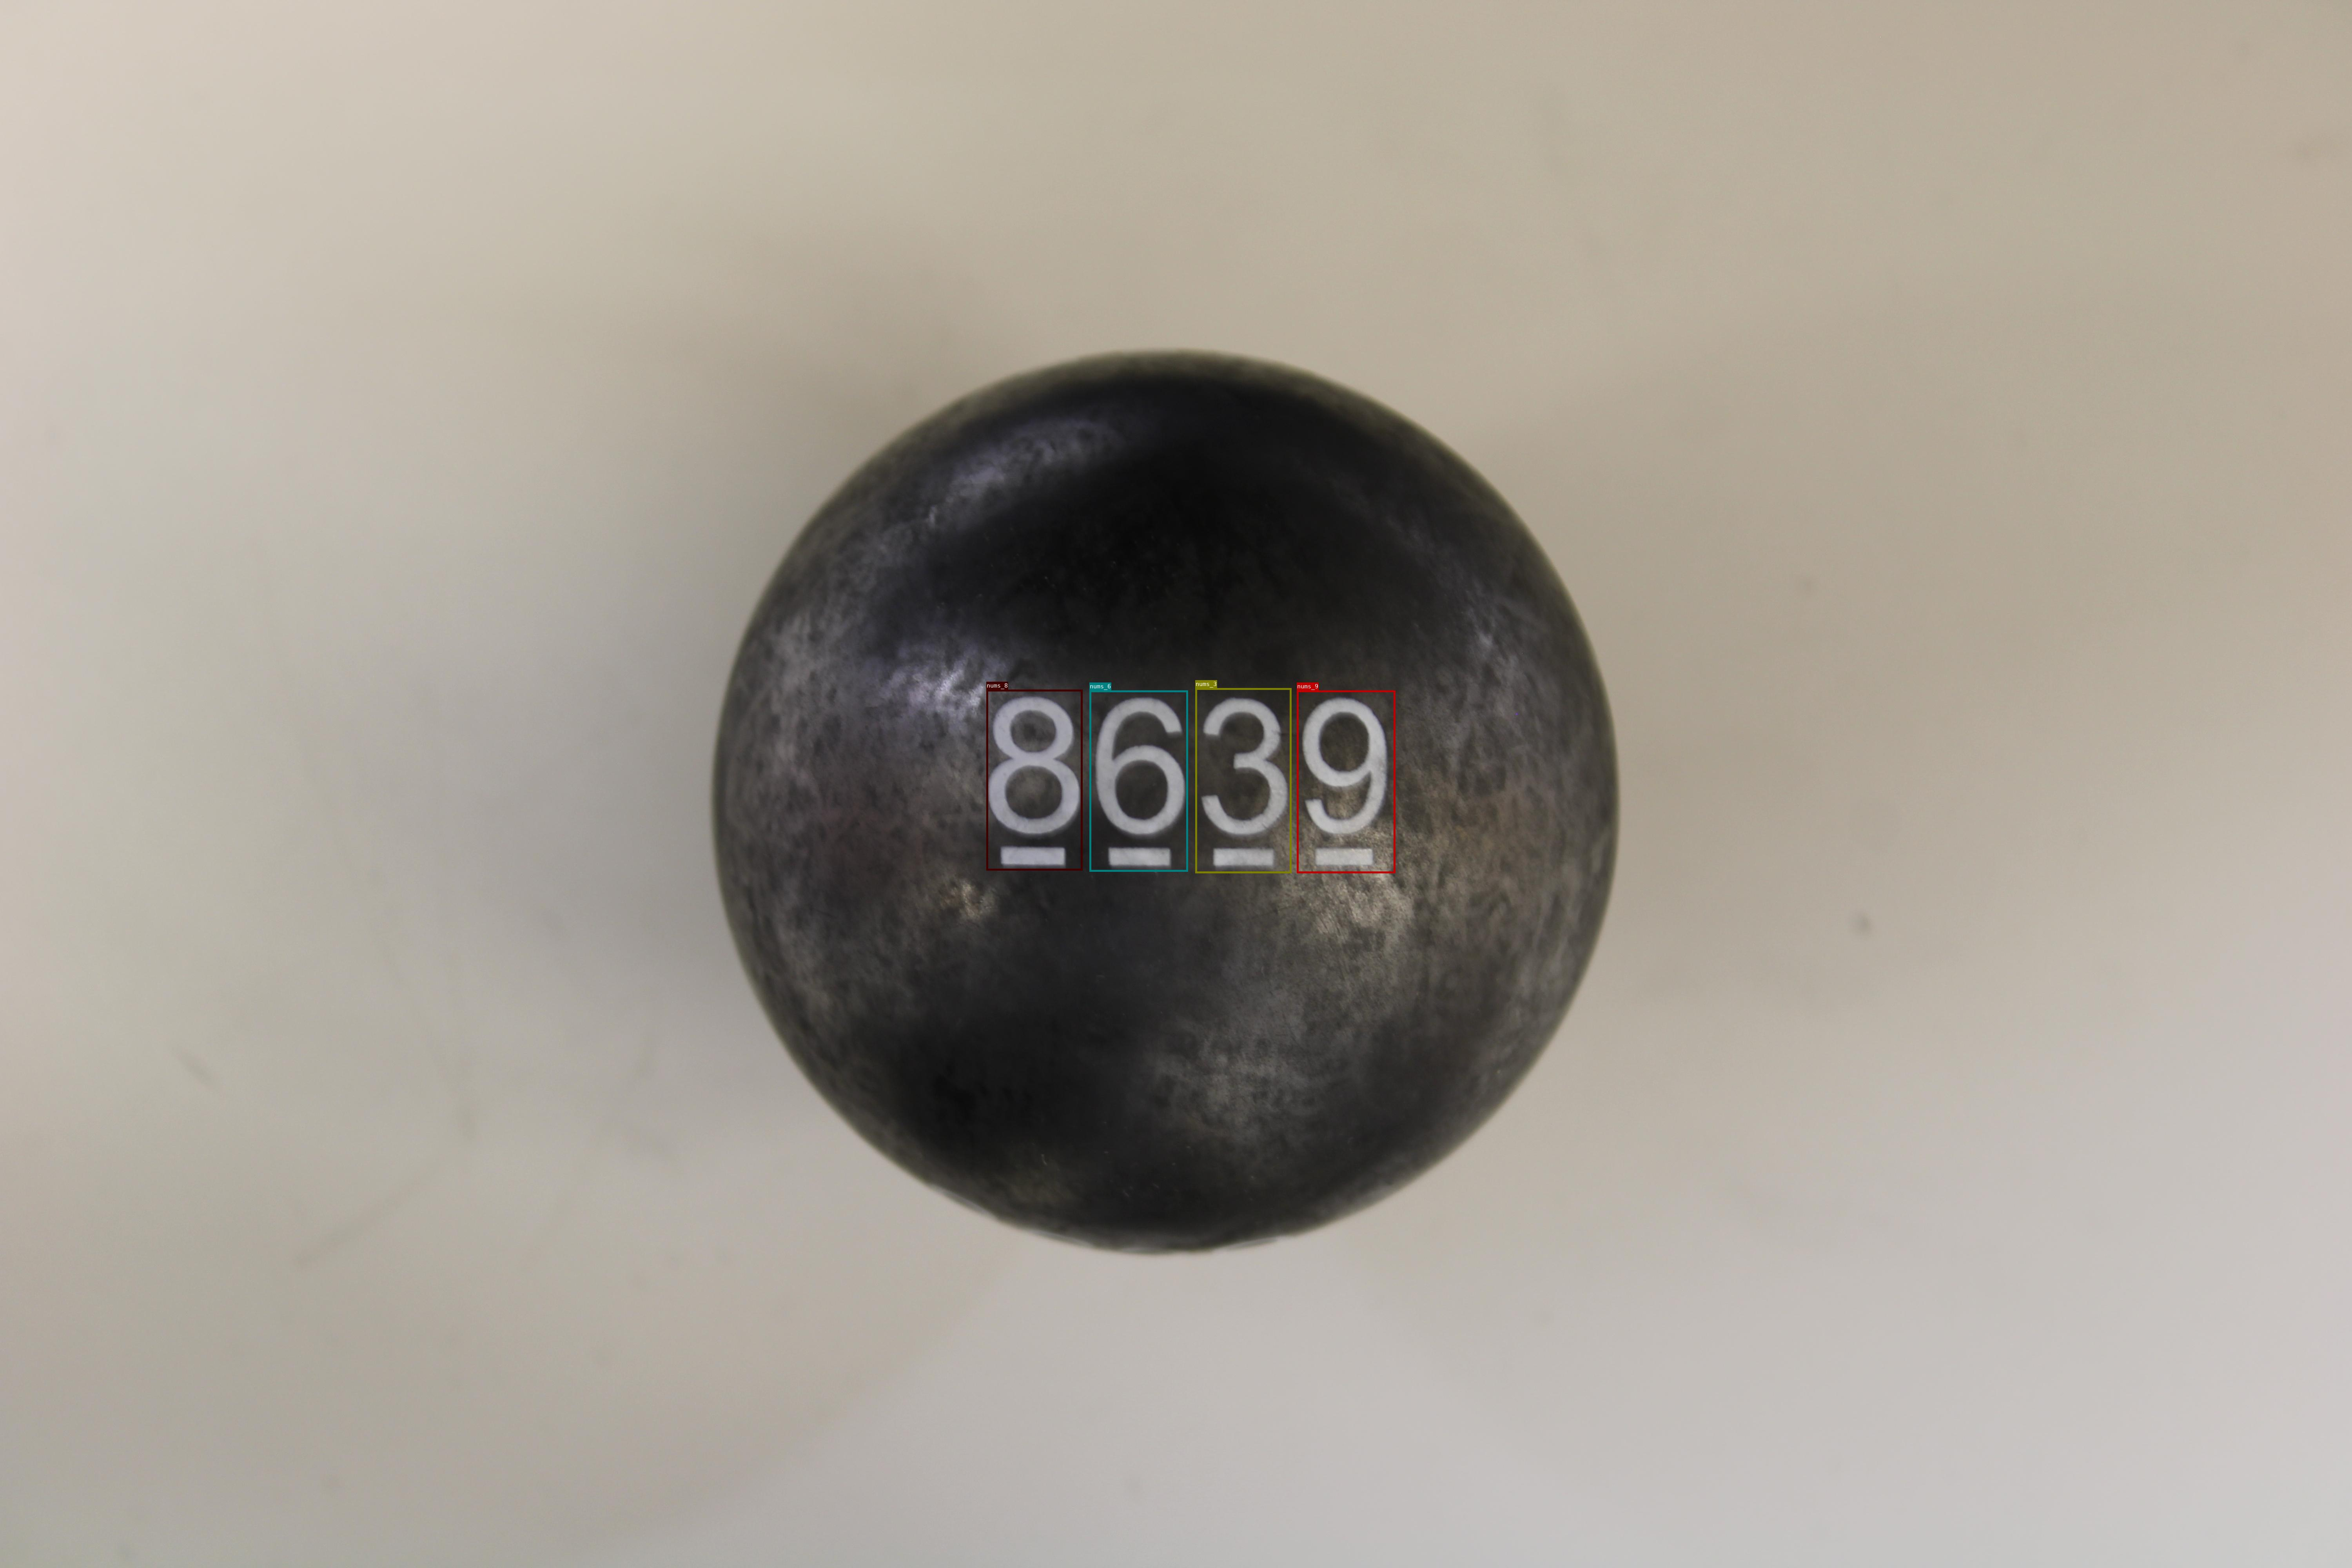nums_3: (1195, 688, 1292, 873)
nums_6: (1088, 690, 1188, 872)
nums_8: (987, 690, 1081, 870)
nums_9: (1297, 690, 1395, 873)
